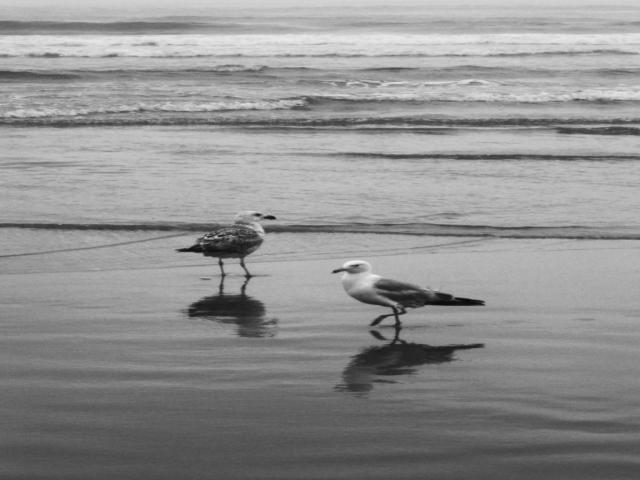Bird: (331, 260, 490, 330), (170, 210, 294, 283)
